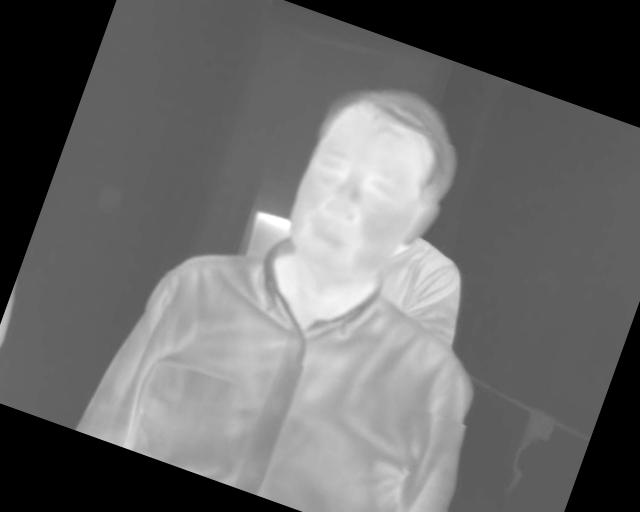face: (273, 63, 478, 305)
